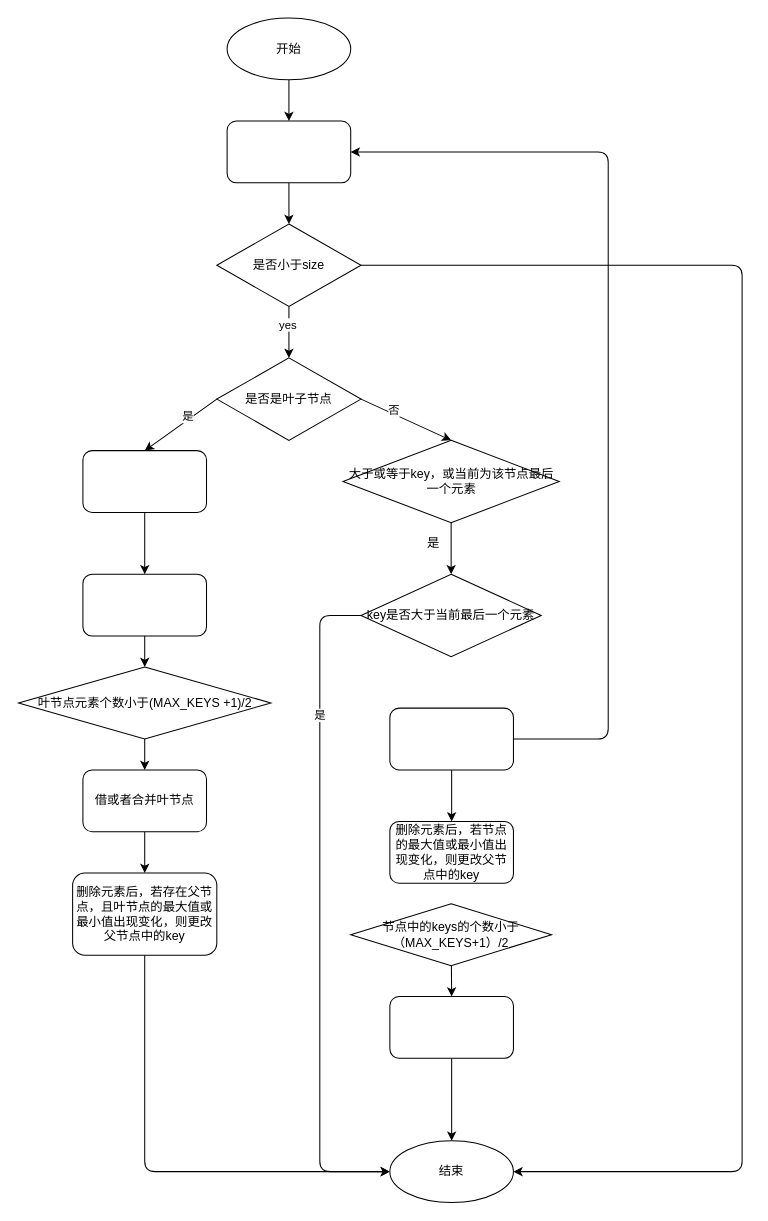
This 768x1221 diagram has some shape labels left out. Here are the shapes that lost their labels. From the top down, the centre of each, then its label:
point (288, 151): 设置当前节点的keys个数
point (144, 481): 收集该节点中删除的元素
point (144, 604): 删除元素
point (451, 738): 递归调用doRemove
point (451, 1026): 借或者合并分支节点
